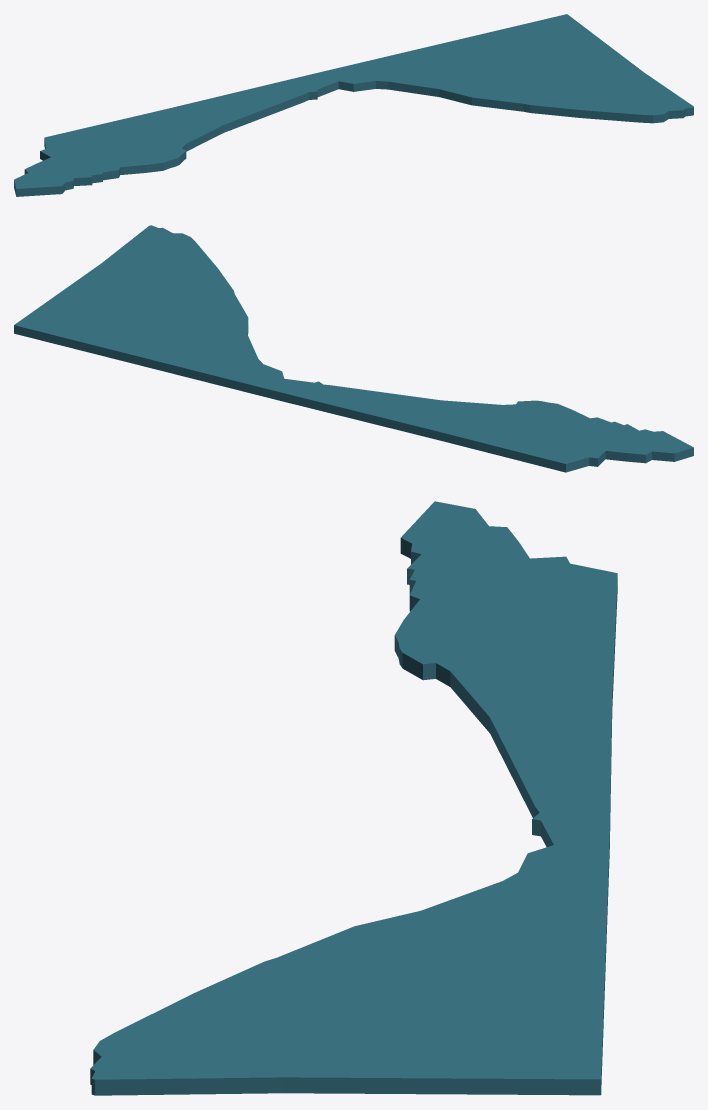
File: intbay.glb
3 views of the same model, one above another, from view 1: azimuth 30°, elevation 25°; view 2: azimuth 150°, elevation 25°; view 3: azimuth 270°, elevation 25° (orthographic). The views are drawn at different scales.
Parts seen in each view (by area): view 1: bay; view 2: bay; view 3: bay.
Boxes of the visible parts, left/top/right/bottom form: bay: left=14, top=14, right=693, bottom=196; bay: left=14, top=225, right=693, bottom=472; bay: left=90, top=501, right=617, bottom=1095.
Bounding box in the file's own units: 3.48 × 0.0446 × 1.34.
